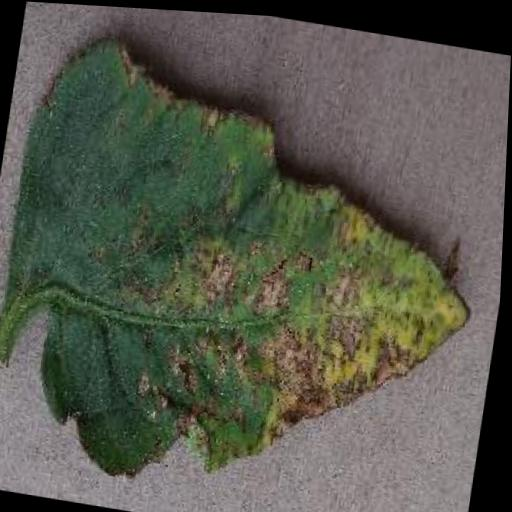Bacterial Spot: (0, 21, 511, 512)
